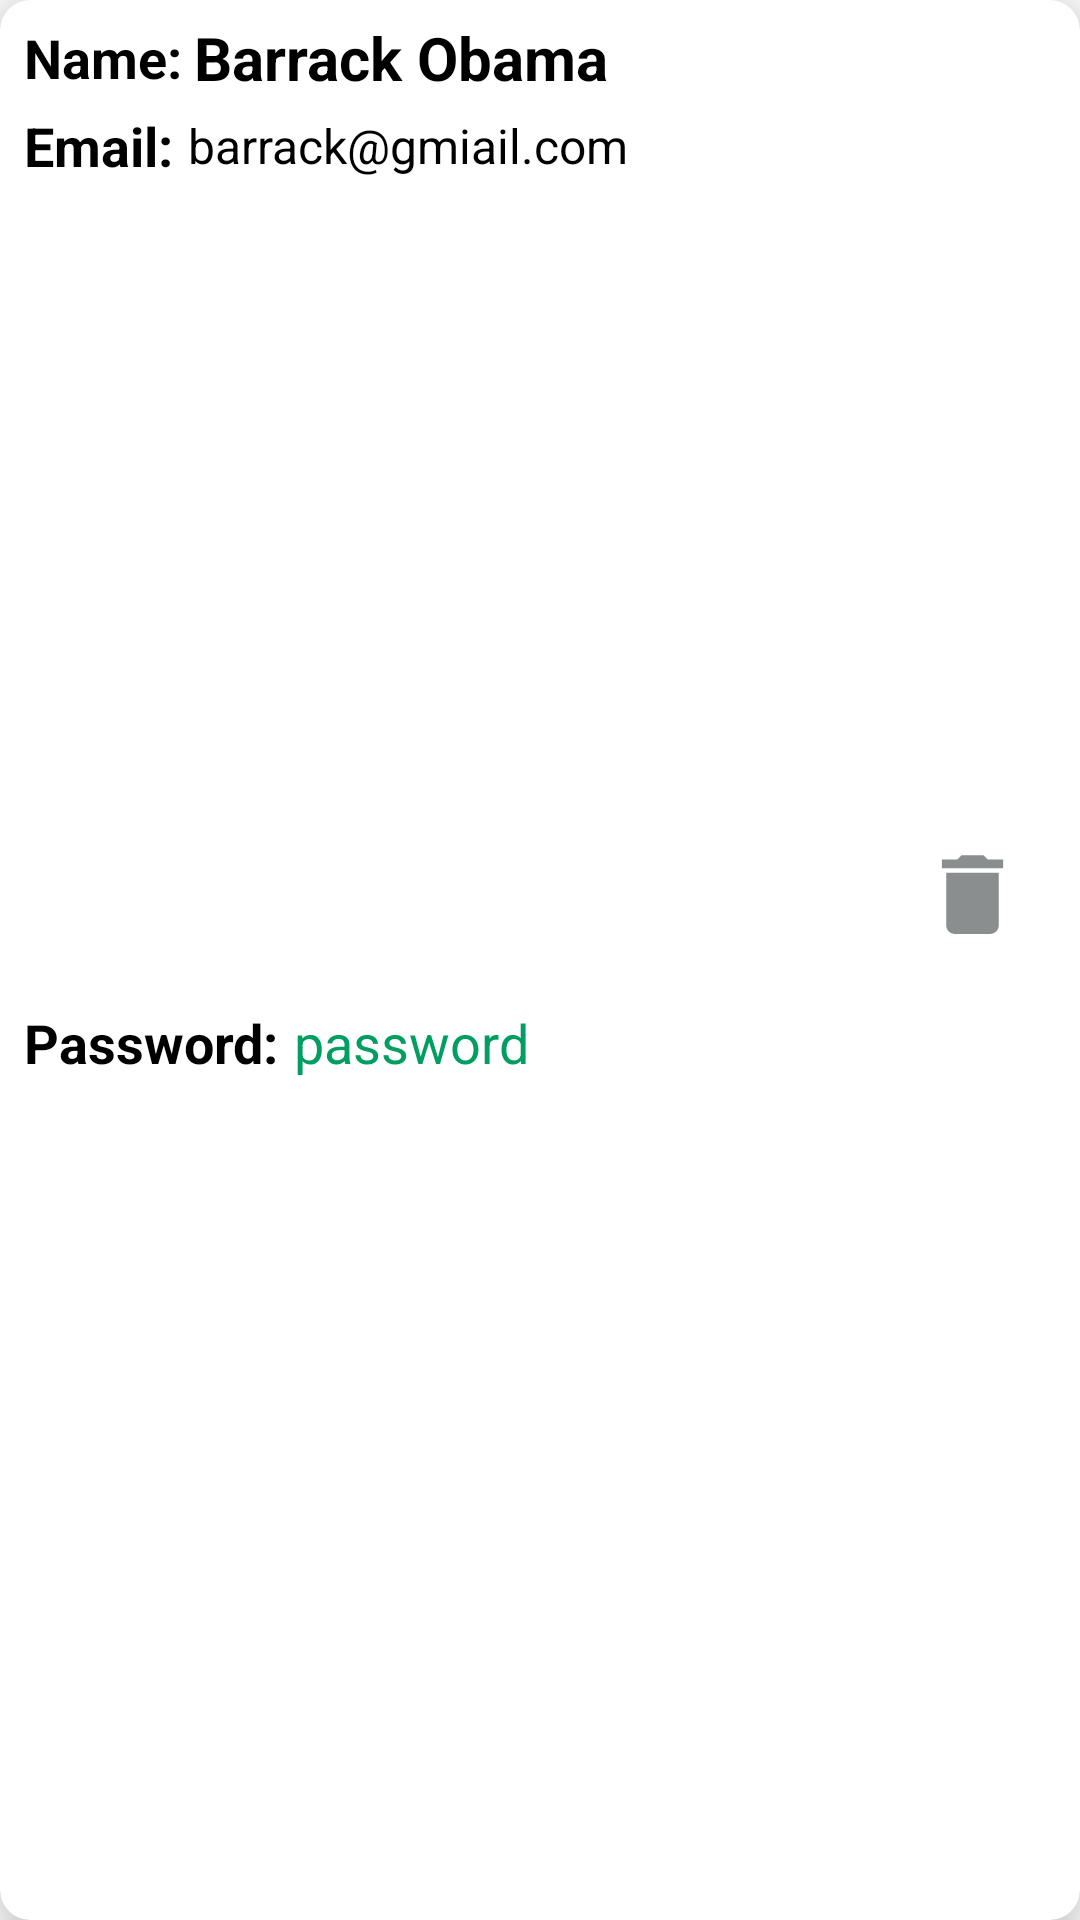

Icons on this 1080px×1920px Android screen, each with its box as (x1,y1,x2,y2):
delete: (942,855,1003,934)
